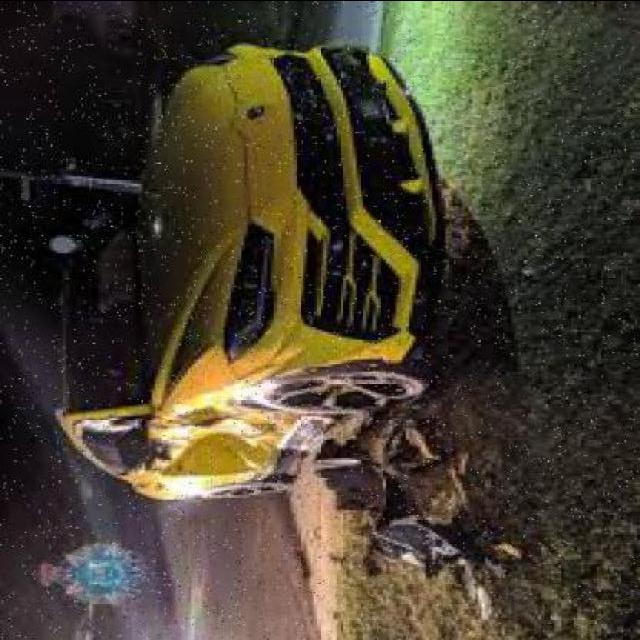doorouter-dent: (149, 405, 281, 486)
